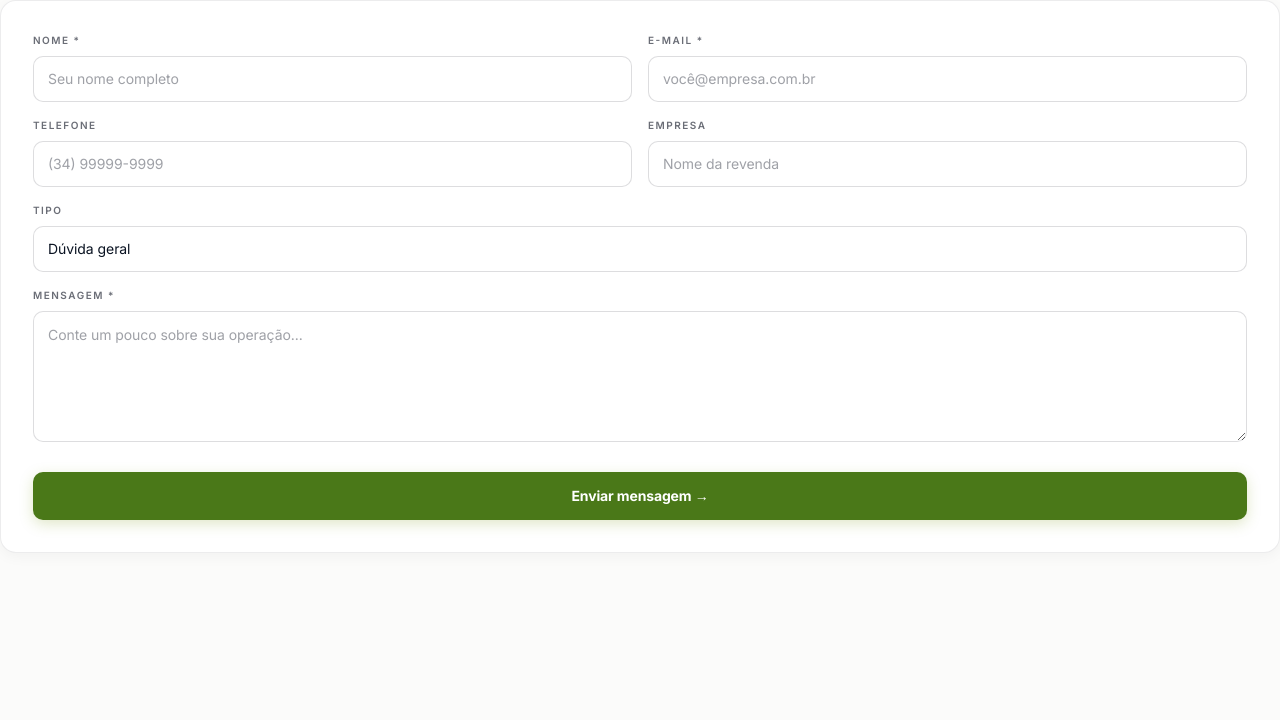
Test case: <ContactForm> › submits a valid payload and shows success state
Type "João Silva" into the field labelled "Nome *" at (332, 79), box left=33, top=56, right=632, bottom=102
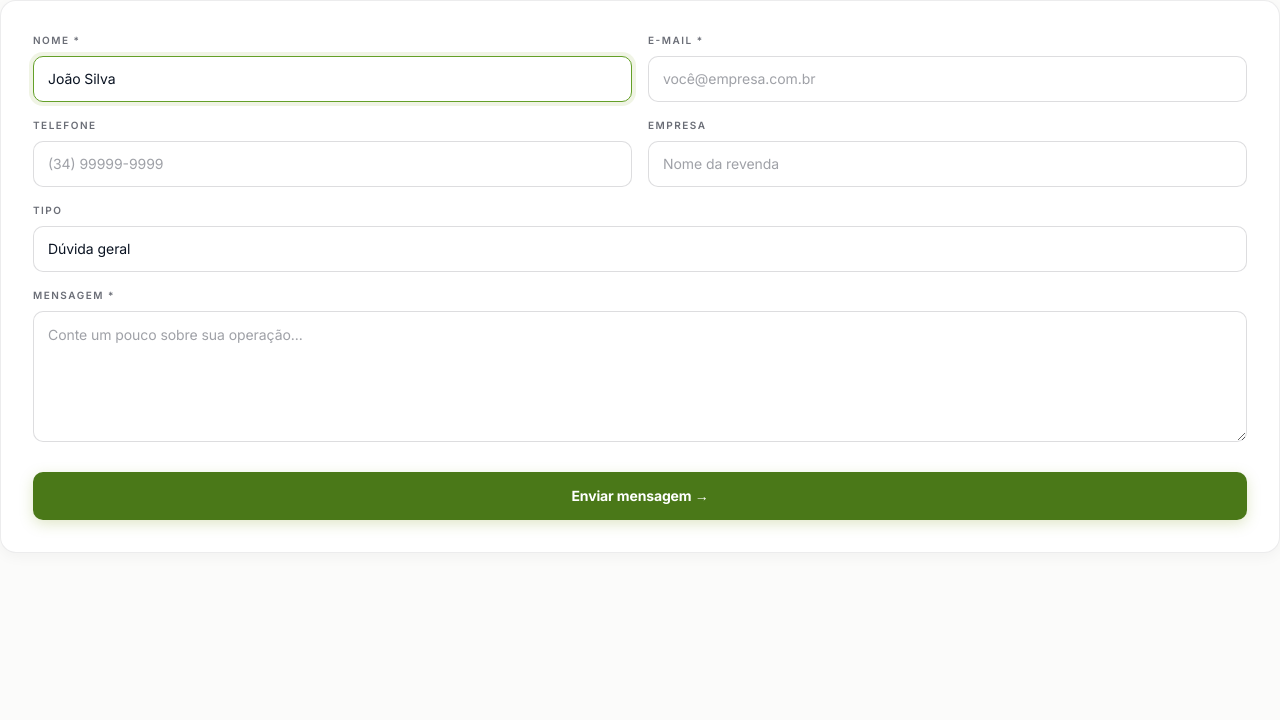
Type "joao@empresa.com.br" into the field labelled "E-mail *" at (948, 79), box left=648, top=56, right=1247, bottom=102
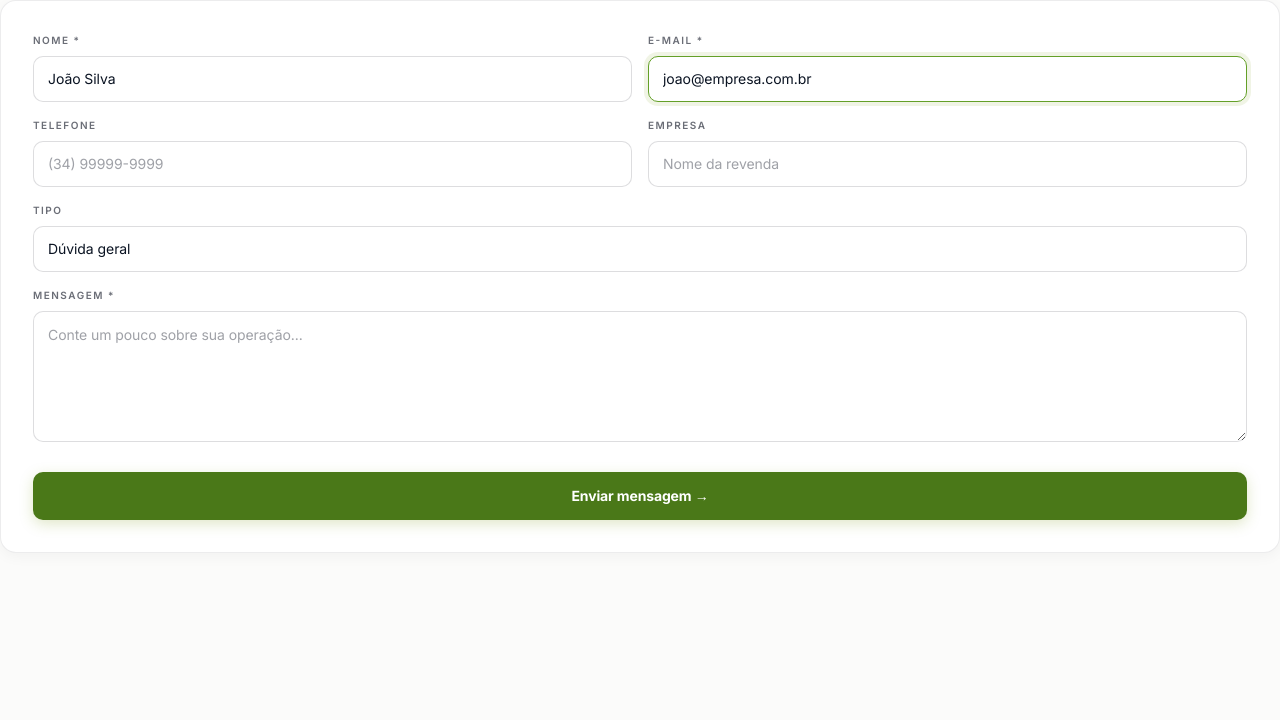
Type "Quero conhecer o sistema PopGás." into the text box labelled "Mensagem *" at (640, 376), box left=33, top=311, right=1247, bottom=442
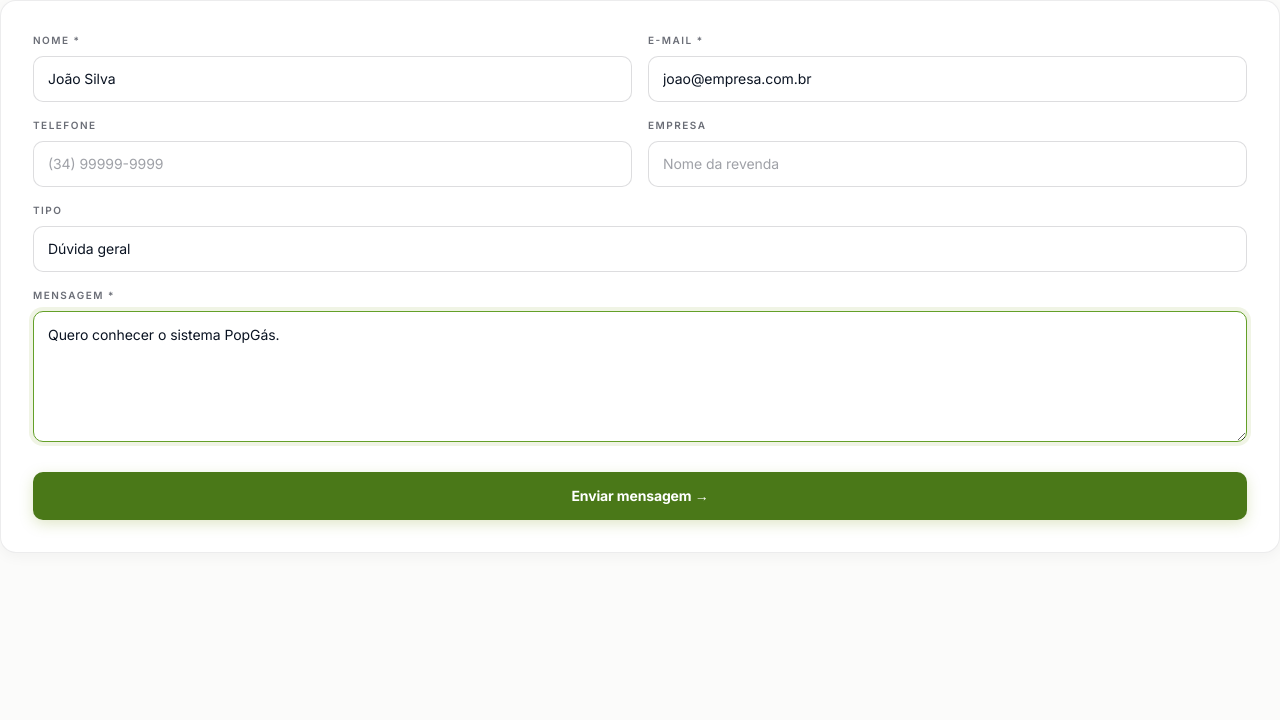
Click the button "Enviar mensagem →" at (640, 496), box left=33, top=472, right=1247, bottom=520
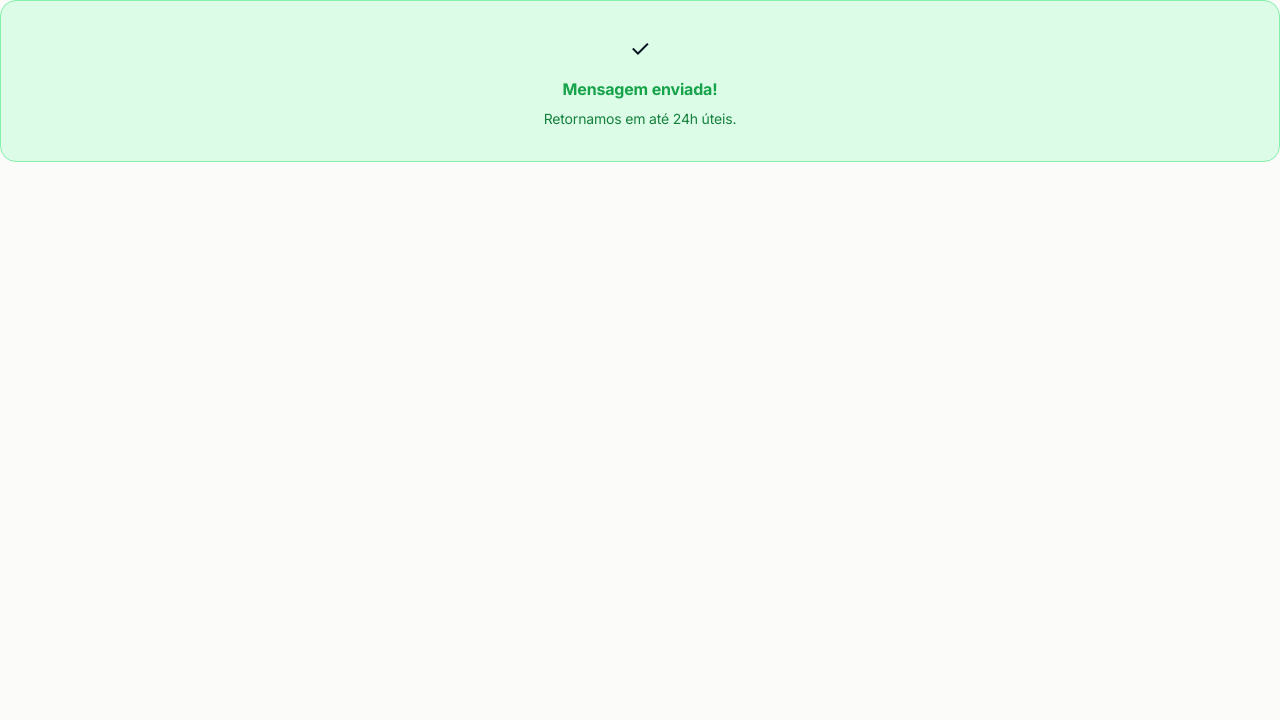
Check: the heading "Mensagem enviada!" is shown, box left=562, top=79, right=717, bottom=99
